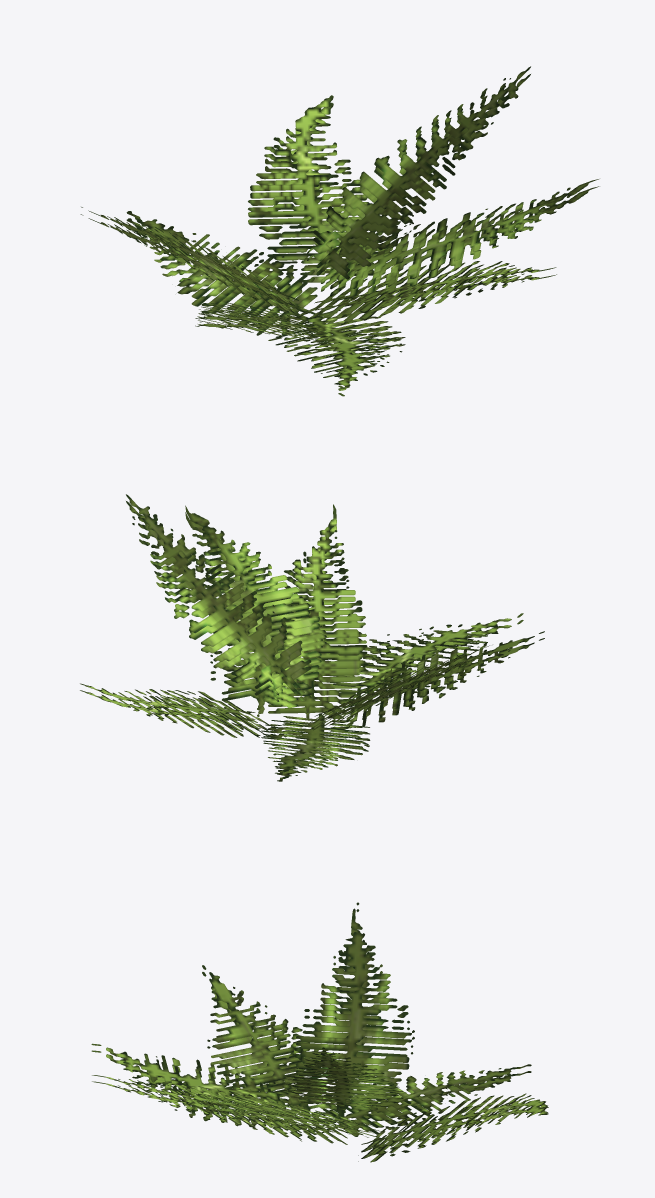
Rendered from ferns_sm_a.dae.
3 renders of one model, top to bottom at view 1: azimuth 30°, elevation 25°; view 2: azimuth 150°, elevation 25°; view 3: azimuth 270°, elevation 25°, orthographic. The views are drawn at different scales.
Visible parts, largest first — view 1: Object09; view 2: Object09; view 3: Object09.
Boxes of the visible parts, x1=… form: Object09: x1=80, y1=66, x2=599, y2=396; Object09: x1=80, y1=494, x2=544, y2=781; Object09: x1=91, y1=902, x2=548, y2=1162.
Bounding box in the file's own units: 5.8 × 2.51 × 6.5.
